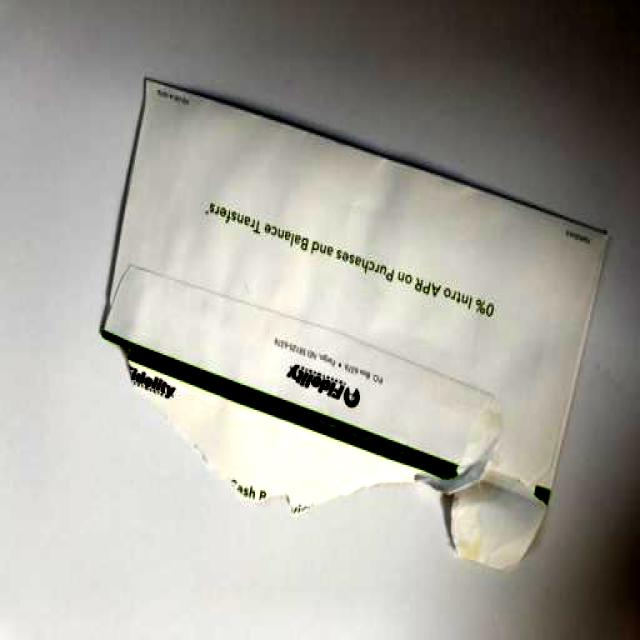Paper: (92, 64, 617, 522)
